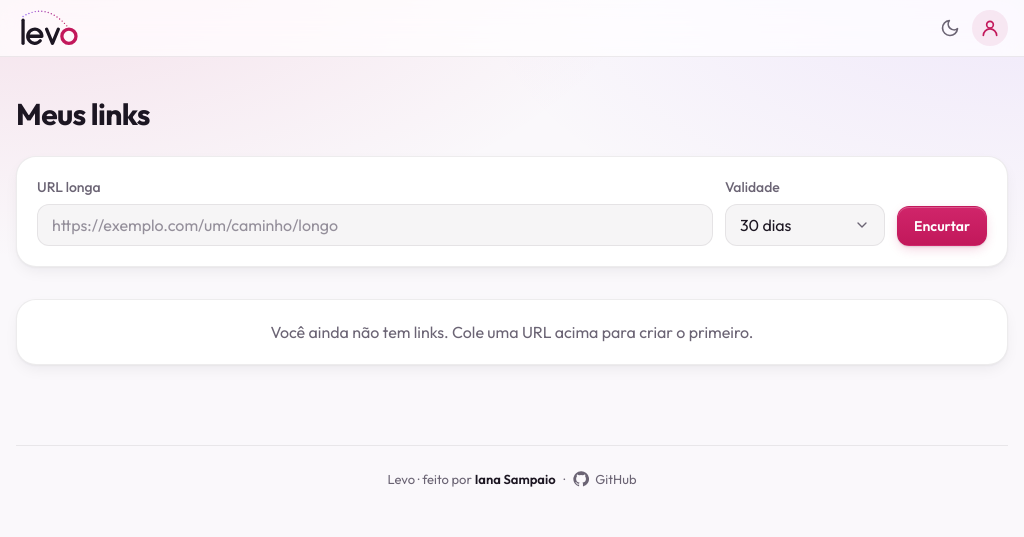
it: meus links › mostra o erro da criação (0)
The width and height of the screenshot is (1024, 537).
In the field labelled "URL longa": (375, 224) x1=37 y1=204 x2=713 y2=246, type "https://bit.ly/abc"
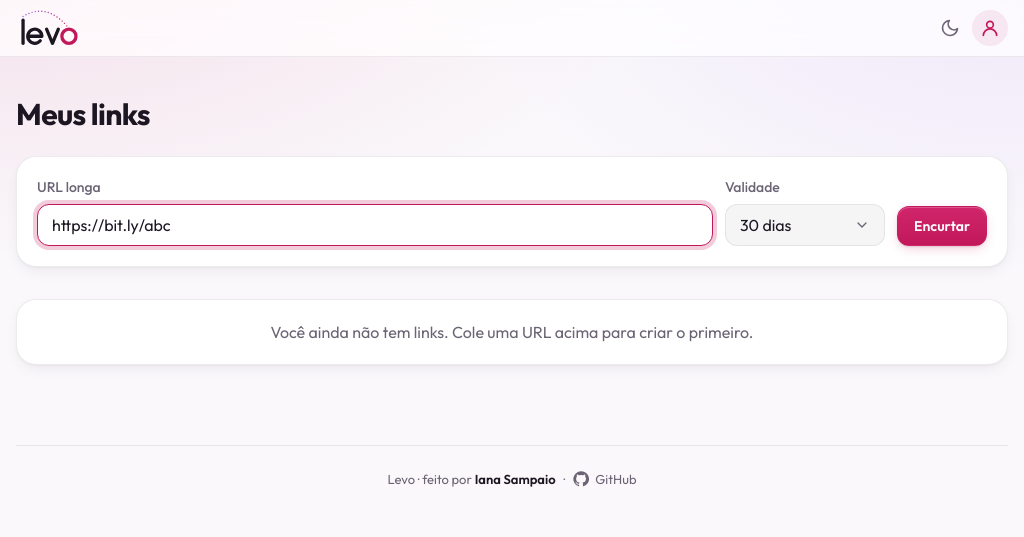
Click the button "Encurtar": (942, 226) x1=897 y1=206 x2=987 y2=246
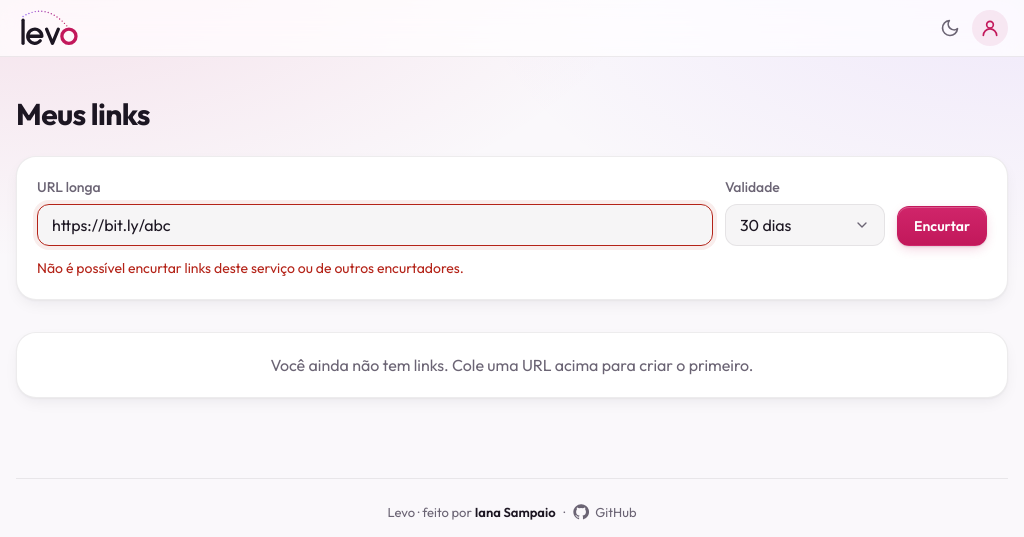
Expected: the message reads "Não é possível encurtar links deste serviço ou de outros encurtadores.", x1=37 y1=258 x2=464 y2=276
